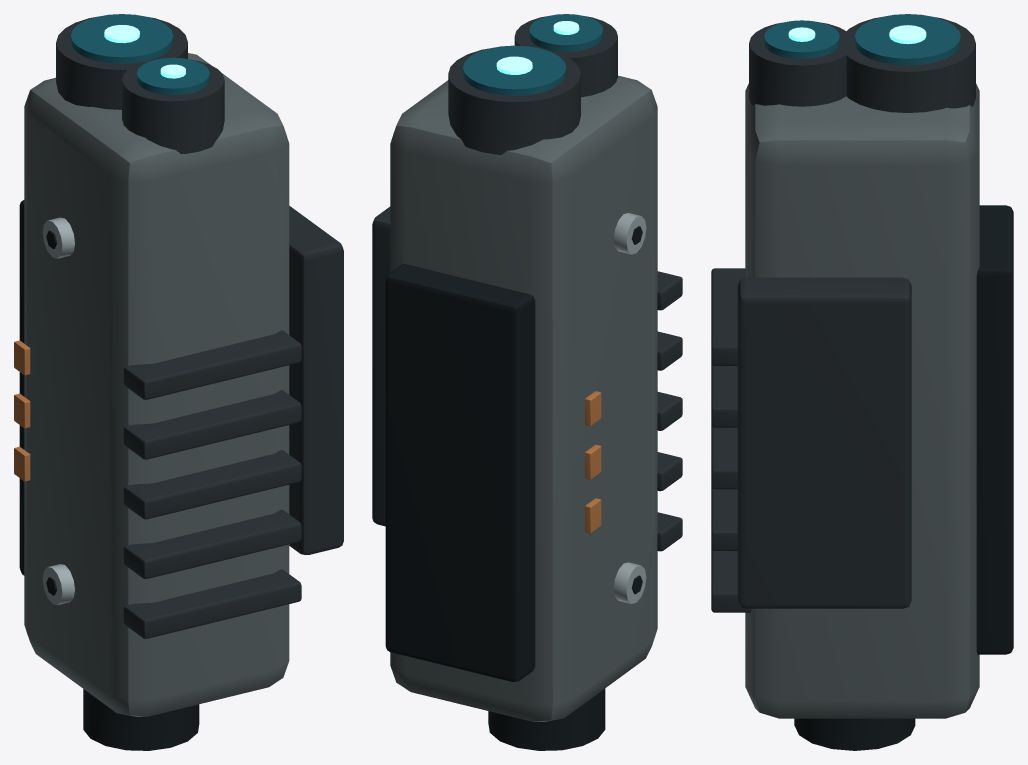
File: laser-3.glb
3 renders of one model, left to right at view 1: azimuth 30°, elevation 25°; view 2: azimuth 150°, elevation 25°; view 3: azimuth 270°, elevation 25°, orthographic. The views are drawn at different scales.
Parts seen in each view (by area): view 1: 01_Cerakote.013, 02_Graphite.017, 04_Elastomer.017, 06_OpticalGlass.002, 03_Titanium.017, 05_Copper.008, 07_Indicator.003; view 2: 01_Cerakote.013, 04_Elastomer.017, 02_Graphite.017, 06_OpticalGlass.002, 03_Titanium.017, 05_Copper.008, 07_Indicator.003; view 3: 01_Cerakote.013, 02_Graphite.017, 04_Elastomer.017, 06_OpticalGlass.002, 07_Indicator.003.
Boxes of the visible parts, left/top/right/bottom form: 01_Cerakote.013: left=24, top=53, right=289, bottom=716; 02_Graphite.017: left=56, top=17, right=343, bottom=638; 04_Elastomer.017: left=19, top=200, right=199, bottom=750; 06_OpticalGlass.002: left=70, top=14, right=209, bottom=95; 03_Titanium.017: left=42, top=217, right=74, bottom=605; 05_Copper.008: left=14, top=340, right=30, bottom=481; 07_Indicator.003: left=104, top=25, right=185, bottom=78; 01_Cerakote.013: left=390, top=75, right=657, bottom=721; 04_Elastomer.017: left=385, top=226, right=642, bottom=750; 02_Graphite.017: left=372, top=16, right=682, bottom=551; 06_OpticalGlass.002: left=463, top=14, right=603, bottom=95; 03_Titanium.017: left=613, top=213, right=646, bottom=603; 05_Copper.008: left=585, top=391, right=601, bottom=533; 07_Indicator.003: left=496, top=21, right=579, bottom=74; 01_Cerakote.013: left=745, top=83, right=979, bottom=718; 02_Graphite.017: left=711, top=17, right=975, bottom=612; 04_Elastomer.017: left=794, top=205, right=1013, bottom=750; 06_OpticalGlass.002: left=764, top=14, right=960, bottom=65; 07_Indicator.003: left=788, top=25, right=926, bottom=44.
Size of the model in its own units: 0.0377 by 0.1015 by 0.04.
